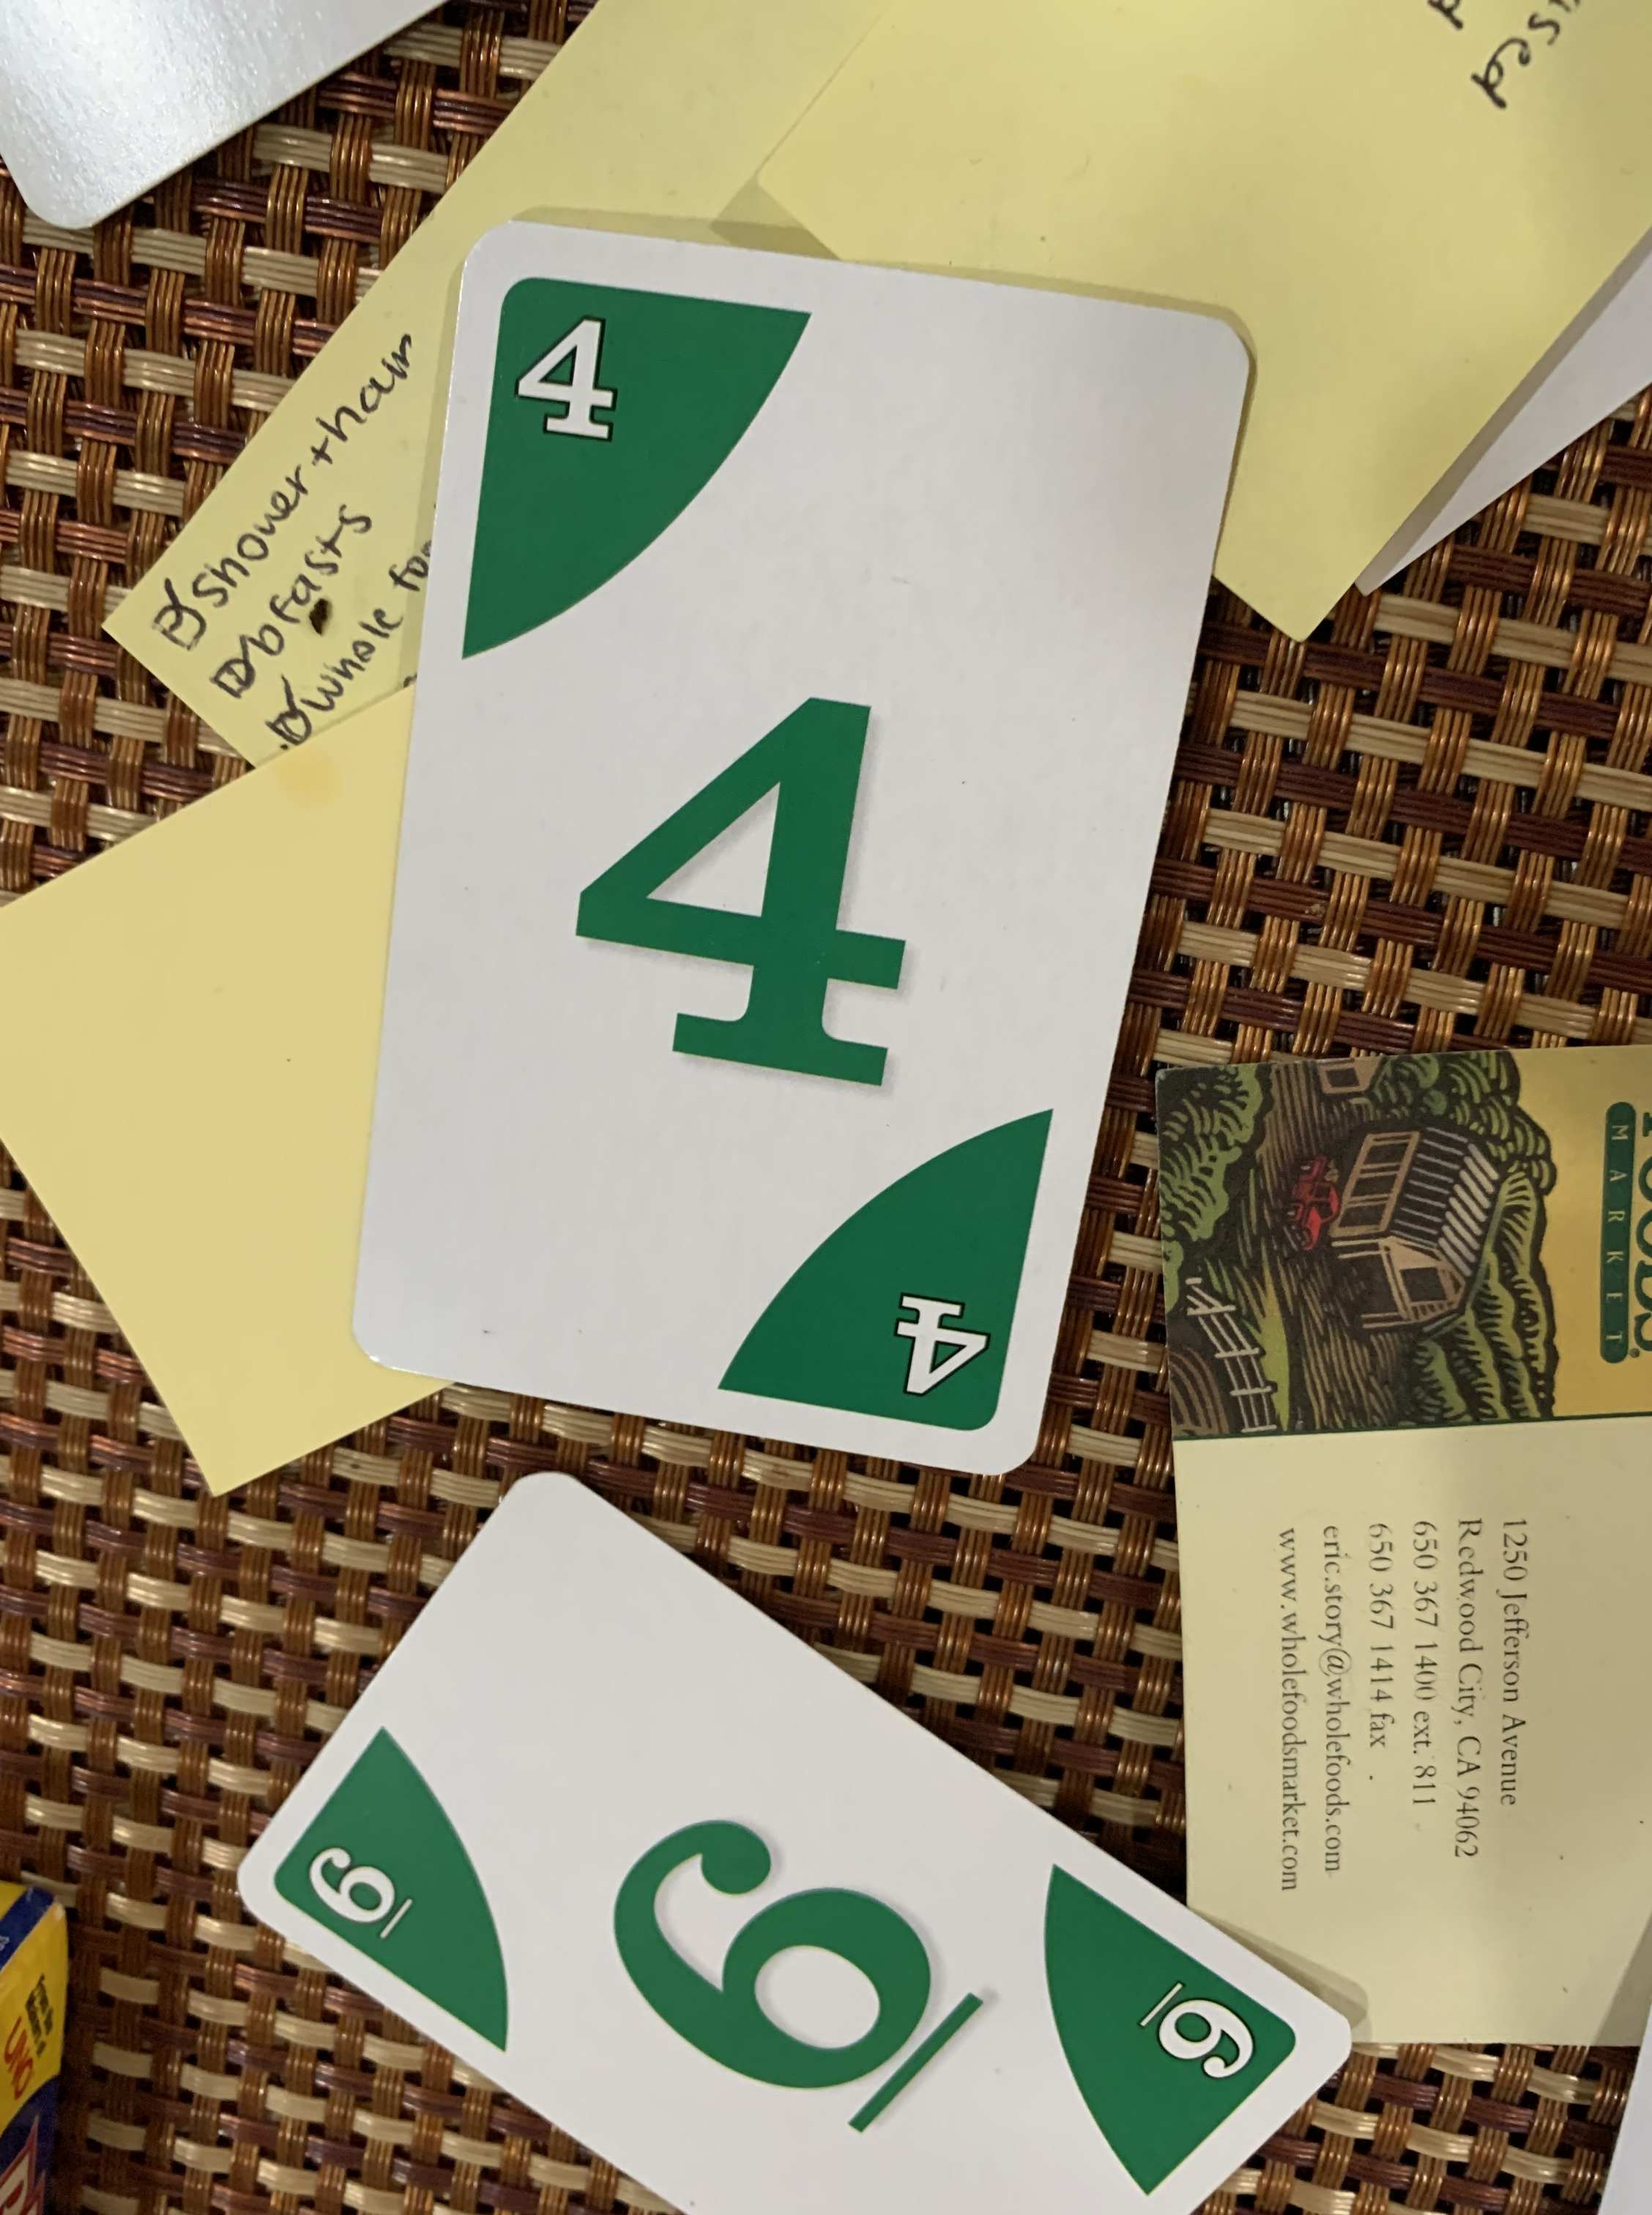four: (354, 207, 1279, 1498)
six: (201, 1451, 1376, 2215)
